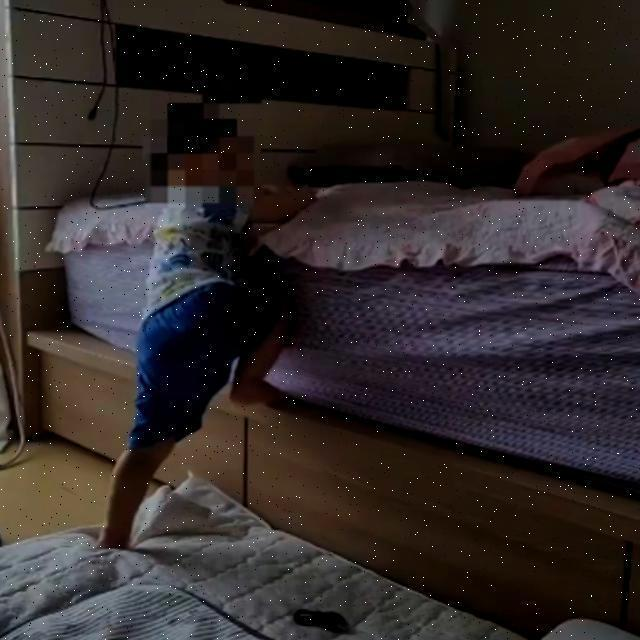child: (87, 90, 330, 550)
